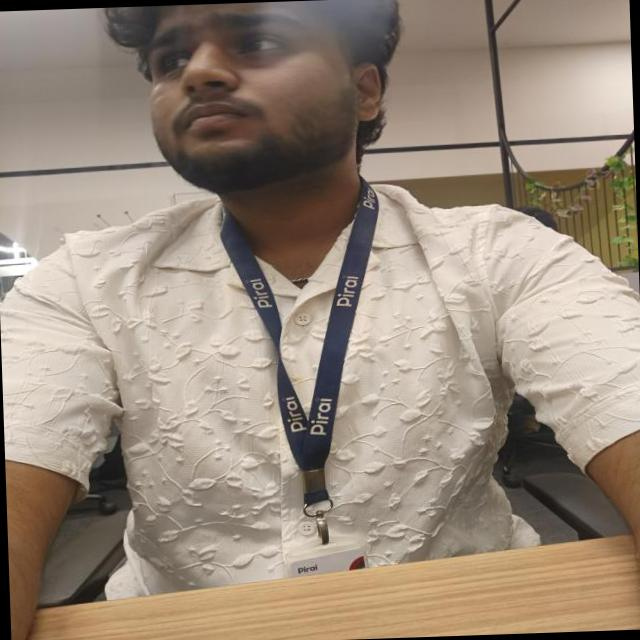id_card: (216, 178, 391, 585)
